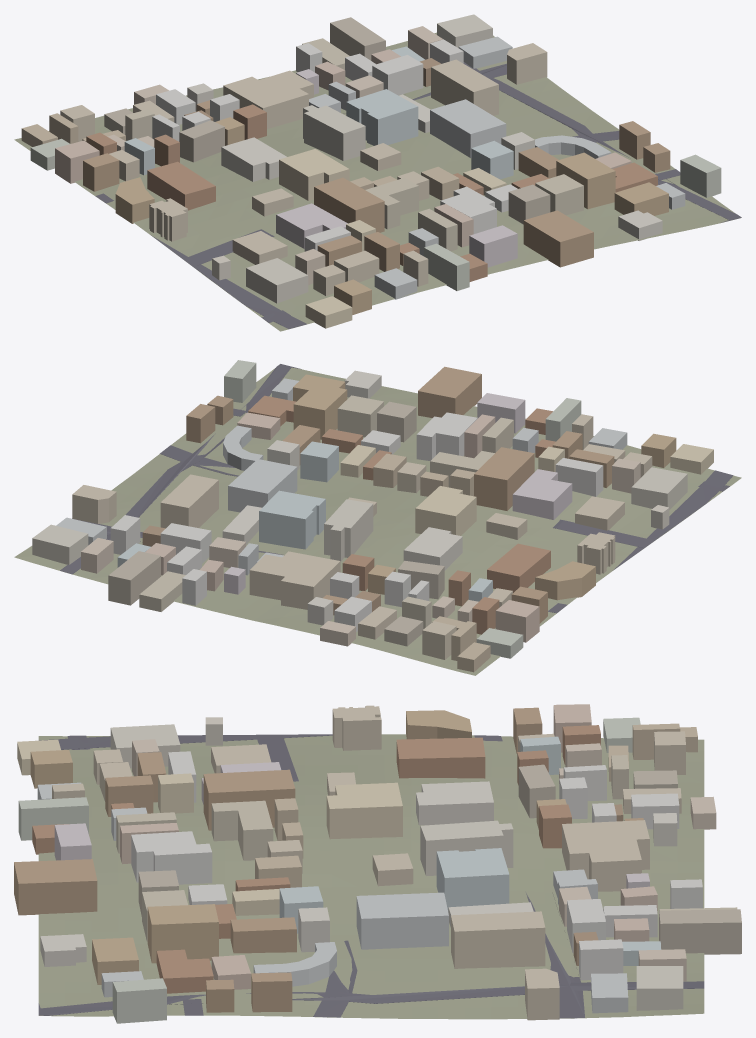
The model's file is chunk_6_6.glb.
The picture shows the model from 3 angles, top to bottom: view 1: azimuth 30°, elevation 25°; view 2: azimuth 150°, elevation 25°; view 3: azimuth 270°, elevation 25°; orthographic projection. The views are drawn at different scales.
Parts seen in each view (by area): view 1: geometry_107, geometry_60, geometry_54, geometry_6, geometry_10, geometry_58, geometry_56, geometry_52, geometry_3, geometry_62, geometry_12, geometry_8 (+67 smaller); view 2: geometry_107, geometry_60, geometry_54, geometry_52, geometry_6, geometry_10, geometry_56, geometry_3, geometry_58, geometry_9, geometry_62, geometry_5 (+72 smaller); view 3: geometry_107, geometry_56, geometry_60, geometry_10, geometry_6, geometry_3, geometry_54, geometry_12, geometry_59, geometry_62, geometry_5, geometry_108 (+78 smaller).
Part boxes in pixels (box(x1,y1,x2,y2)): geometry_107: box(14, 32, 740, 331); geometry_60: box(223, 70, 313, 128); geometry_54: box(346, 89, 418, 145); geometry_6: box(523, 210, 593, 267); geometry_10: box(430, 99, 506, 157); geometry_58: box(303, 105, 365, 160); geometry_56: box(431, 59, 498, 115); geometry_52: box(314, 177, 384, 232); geometry_3: box(279, 149, 349, 200); geometry_62: box(147, 161, 215, 210); geometry_12: box(556, 152, 615, 209); geometry_8: box(246, 258, 308, 303); geometry_107: box(14, 367, 741, 675); geometry_60: box(249, 551, 340, 609); geometry_54: box(259, 490, 325, 549); geometry_52: box(474, 447, 534, 510); geometry_6: box(418, 366, 481, 417); geometry_10: box(228, 459, 297, 512); geometry_56: box(160, 474, 218, 528); geometry_3: box(415, 486, 476, 535); geometry_58: box(324, 499, 373, 561); geometry_9: box(512, 469, 572, 519); geometry_62: box(487, 543, 550, 592); geometry_5: box(416, 412, 477, 460); geometry_107: box(38, 734, 704, 1019); geometry_56: box(451, 911, 545, 968); geometry_60: box(562, 820, 649, 891); geometry_10: box(356, 892, 448, 949); geometry_6: box(14, 859, 97, 915); geometry_3: box(326, 782, 402, 839); geometry_54: box(436, 848, 509, 911); geometry_12: box(147, 904, 218, 963); geometry_59: box(659, 909, 741, 954); geometry_62: box(396, 737, 485, 778); geometry_5: box(131, 831, 212, 884); geometry_108: box(38, 981, 704, 1015).
Bounding box in the file's own units: 261 × 21.75 × 273.
